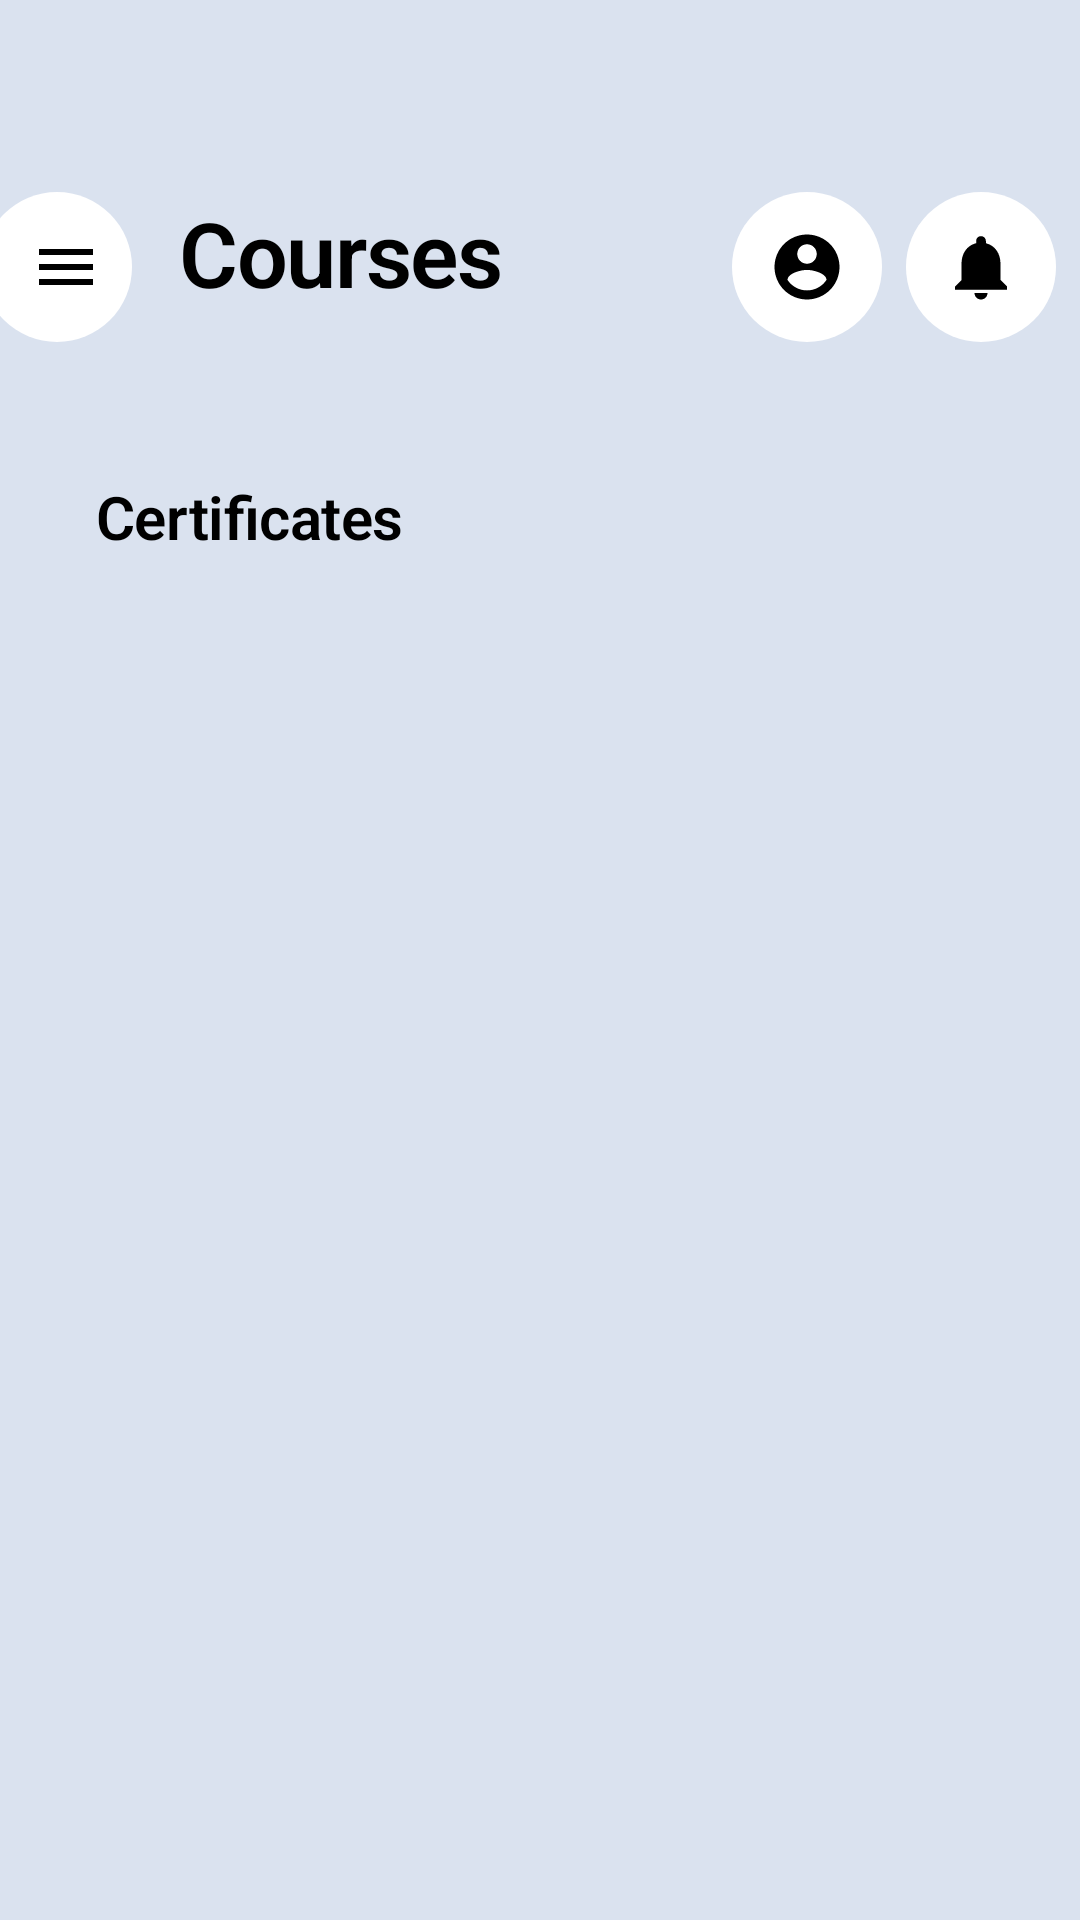

Icon bounding boxes for this 1080px×1920px phone screenshot, format bbox=(x1, y1, x2, y2):
account circle: bbox=(732, 192, 882, 342)
menu: bbox=(0, 192, 132, 342)
notification: bbox=(906, 192, 1056, 342)
